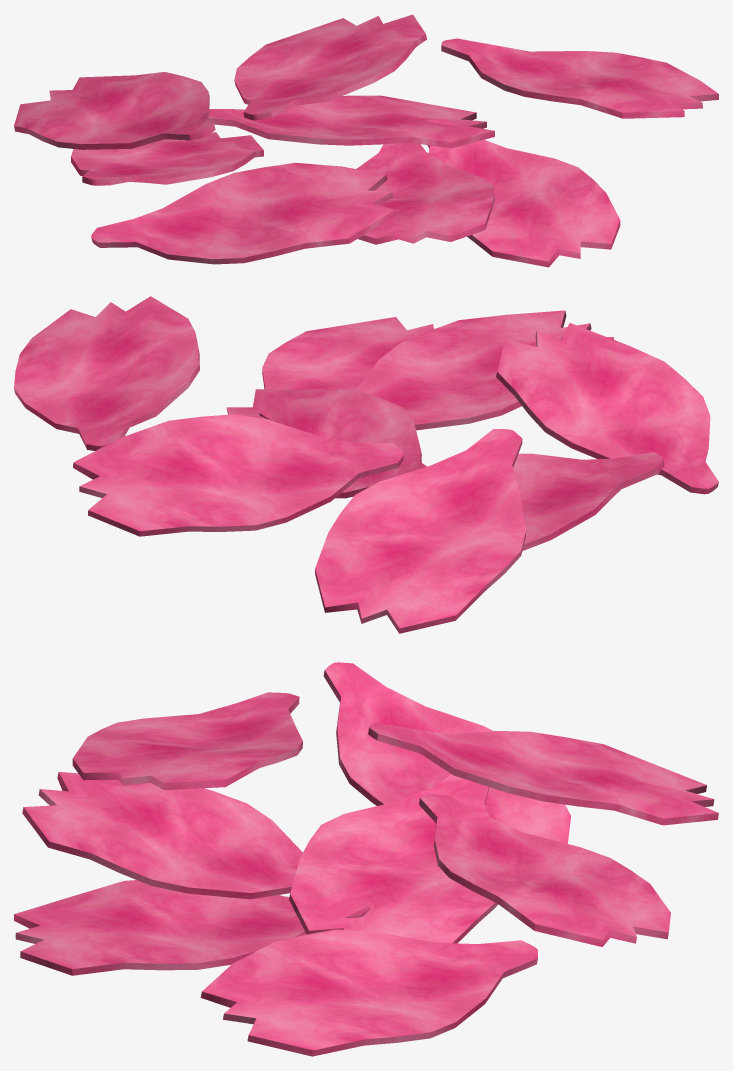
The model's file is Petal.fbx.
3 views of the same model, one above another, from view 1: azimuth 30°, elevation 25°; view 2: azimuth 150°, elevation 25°; view 3: azimuth 270°, elevation 25° (orthographic). The views are drawn at different scales.
Parts seen in each view (by area): view 1: Petal; view 2: Petal; view 3: Petal.
Boxes of the visible parts, <box> form: Petal: <box>14,14,718,267</box>; Petal: <box>14,296,718,633</box>; Petal: <box>14,662,718,1056</box>.
Size of the model in its own units: 15.31 by 1.91 by 12.88.
Materials: 1 (1 with a texture image).
